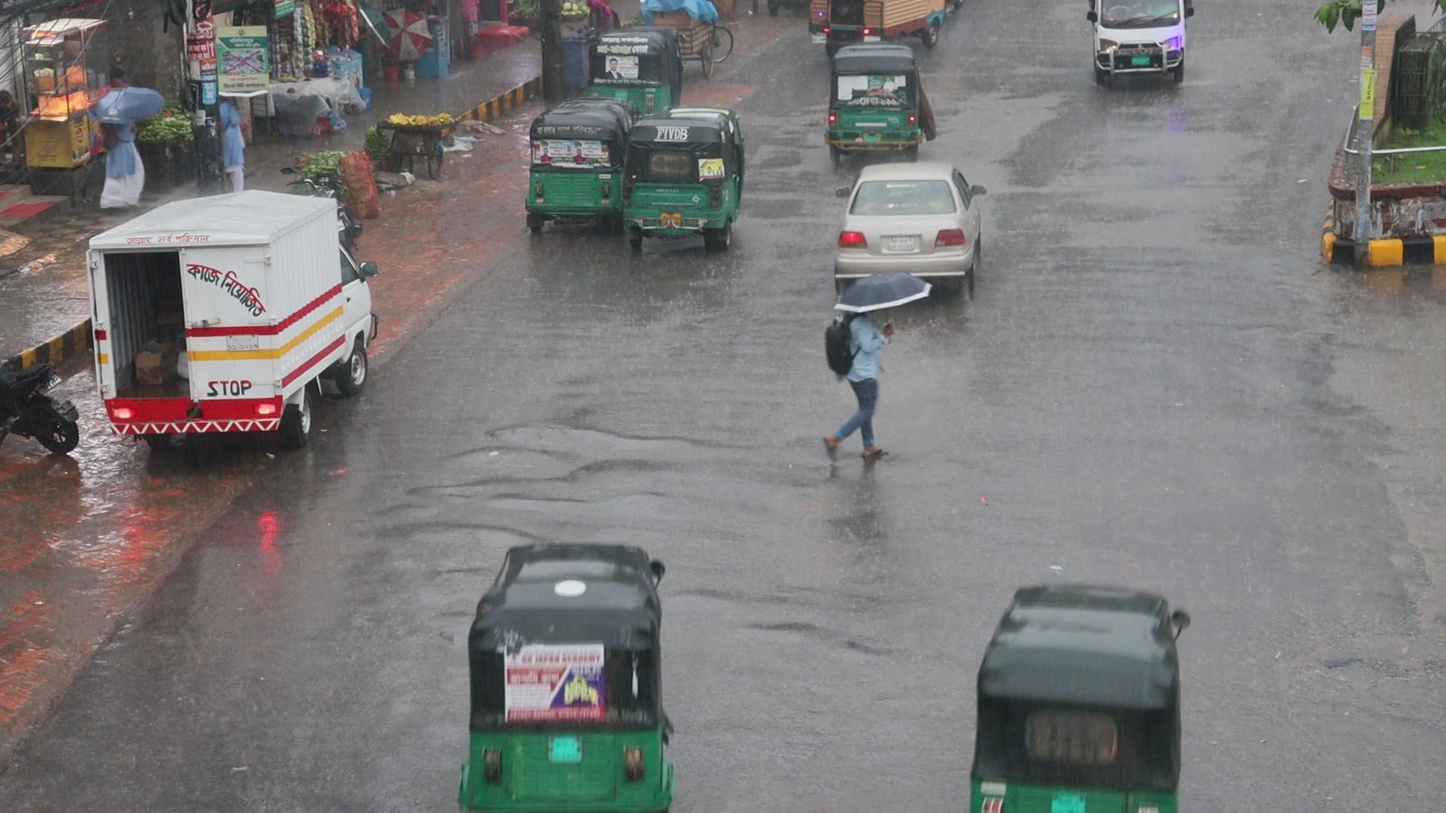Car: (833, 161, 984, 299)
